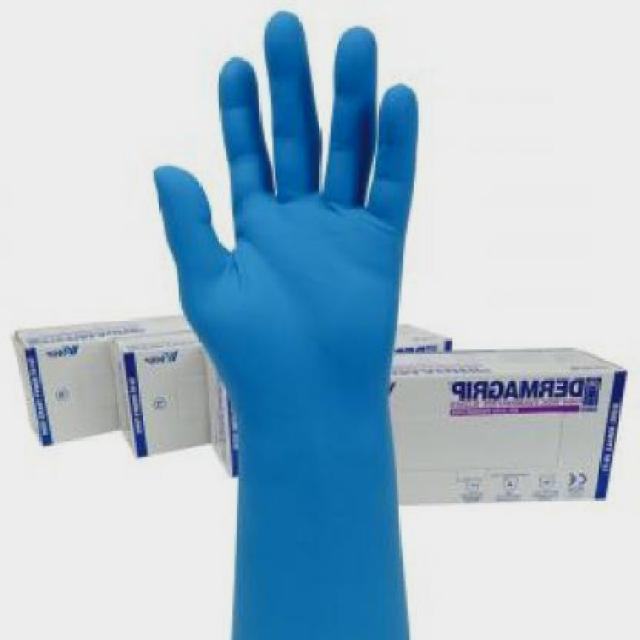glove: (153, 8, 427, 638)
